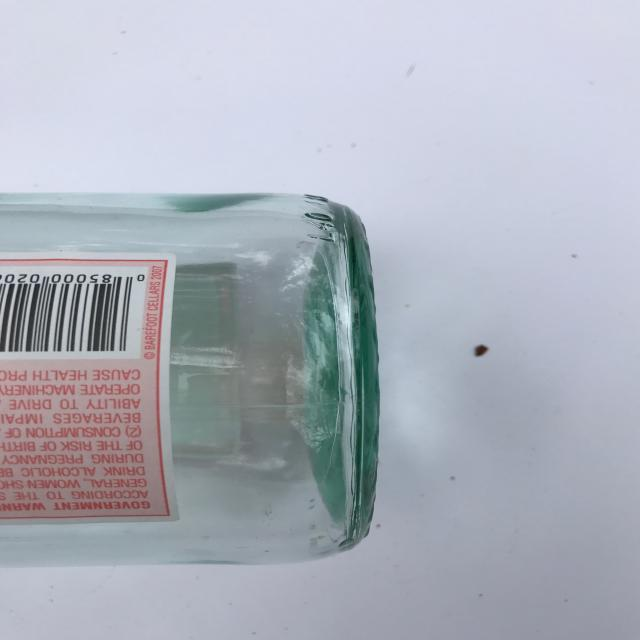glass: (0, 191, 381, 568)
